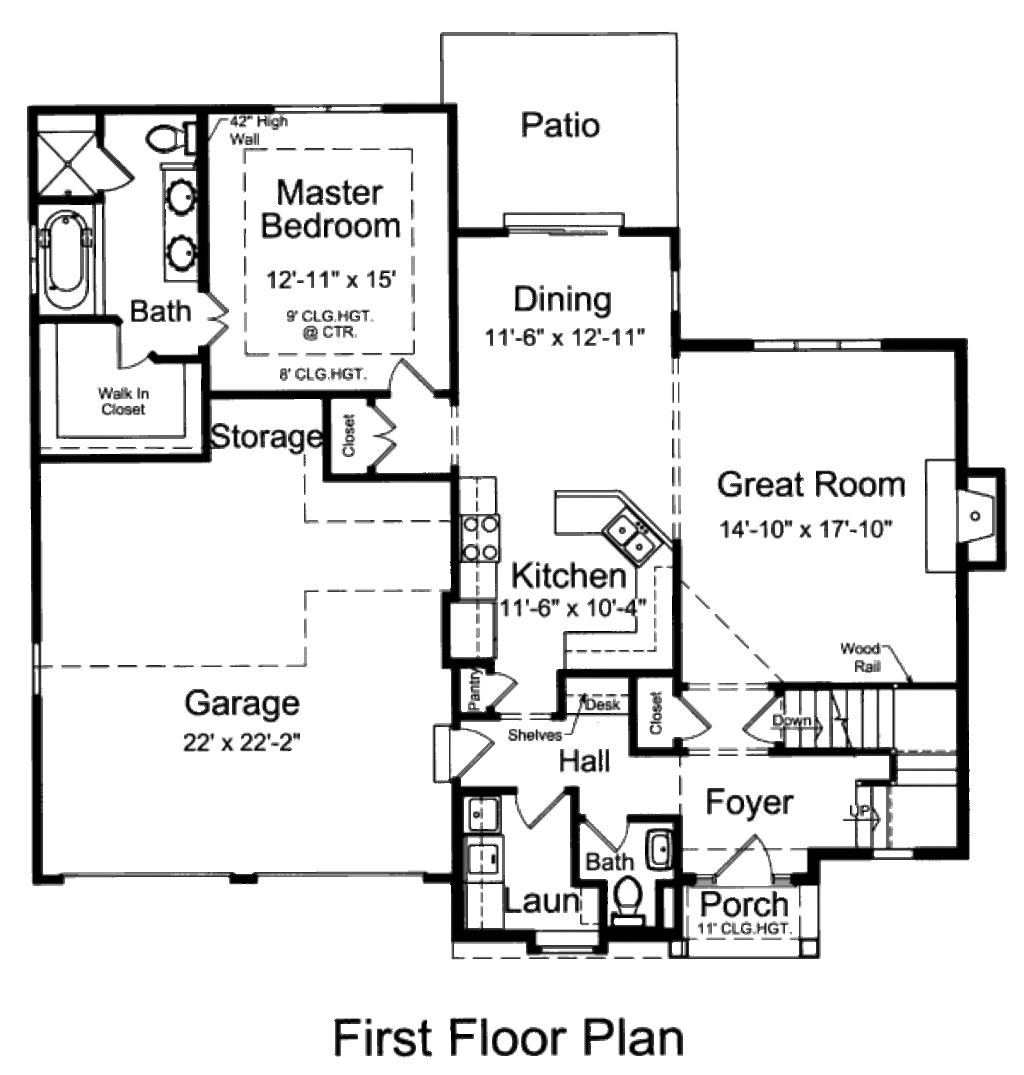door: (716, 830, 781, 887), (436, 724, 500, 779), (358, 398, 402, 472), (100, 322, 150, 376), (379, 348, 435, 396), (195, 291, 235, 354), (584, 808, 635, 849), (516, 787, 568, 826), (674, 696, 711, 743)
kitchen_bar: (544, 487, 662, 574)
large_sink: (143, 111, 201, 163), (608, 873, 652, 936)
small_sink: (156, 163, 202, 288)
stairs: (778, 691, 970, 864)
tub: (34, 199, 102, 325)
windows: (500, 211, 631, 242), (744, 336, 882, 354), (264, 103, 385, 123)
